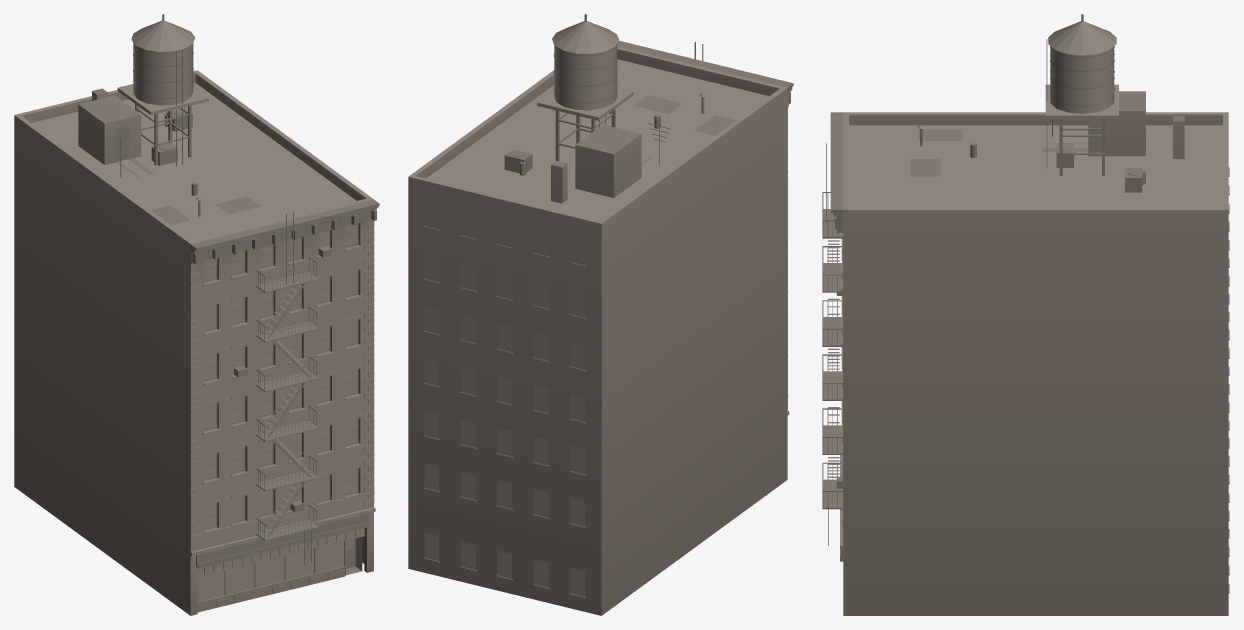
The model's file is corner_left_b.glb.
3 renders of one model, left to right at view 1: azimuth 30°, elevation 25°; view 2: azimuth 150°, elevation 25°; view 3: azimuth 270°, elevation 25°, orthographic. The views are drawn at different scales.
Visible parts, largest first — view 1: corner_left_b; view 2: corner_left_b; view 3: corner_left_b.
Boxes of the visible parts, x1=… form: corner_left_b: x1=14, y1=14, x2=379, y2=615; corner_left_b: x1=408, y1=14, x2=793, y2=615; corner_left_b: x1=822, y1=14, x2=1229, y2=615.
Size of the model in its own units: 12 by 31.35 by 21.15.
